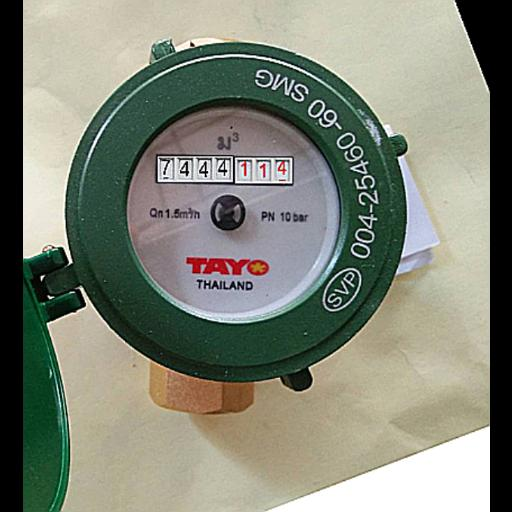1: (237, 160, 251, 180), (256, 160, 270, 180)
4: (216, 159, 230, 180), (274, 161, 288, 182), (178, 159, 192, 179), (196, 159, 210, 179)
7: (159, 159, 173, 180)
border_water_meter_number: (155, 154, 294, 187)
